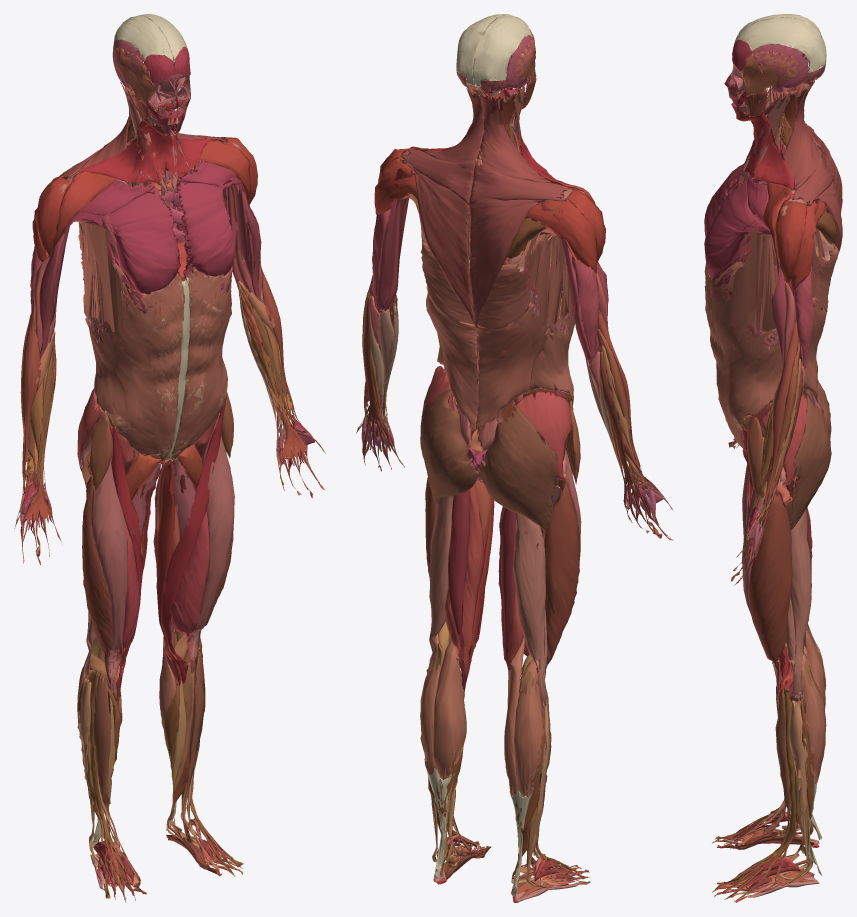
File: muscles.glb
3 renders of one model, left to right at view 1: azimuth 30°, elevation 25°; view 2: azimuth 150°, elevation 25°; view 3: azimuth 270°, elevation 25°, orthographic. The views are drawn at different scales.
Visible parts, largest first — view 1: external-oblique, pectoralis-major, rectus-femoris, deltoid, sartorius, platysma, vastus-medialis, biceps-brachii, tibialis-anterior, vastus-lateralis, latissimus-dorsi, gracilis (+29 smaller); view 2: trapezius, latissimus-dorsi, gluteus-maximus, gastrocnemius, biceps-femoris, deltoid, vastus-lateralis, triceps-brachii, semitendinosus, semimembranosus, epicranial-aponeurosis, gluteus-medius (+21 smaller); view 3: external-oblique, vastus-lateralis, pectoralis-major, latissimus-dorsi, trapezius, deltoid, gluteus-maximus, biceps-femoris, epicranial-aponeurosis, gastrocnemius, platysma, extensor-digitorum-longus (+31 smaller).
Part boxes in pixels (<box>): external-oblique: <box>86,224,232,456</box>; pectoralis-major: <box>61,160,245,313</box>; rectus-femoris: <box>91,419,234,692</box>; deltoid: <box>32,137,257,262</box>; sartorius: <box>109,397,226,699</box>; platysma: <box>79,108,212,184</box>; vastus-medialis: <box>112,511,209,683</box>; biceps-brachii: <box>39,183,261,358</box>; tibialis-anterior: <box>93,650,205,858</box>; vastus-lateralis: <box>82,476,233,685</box>; latissimus-dorsi: <box>78,185,234,331</box>; gracilis: <box>119,462,180,699</box>; trapezius: <box>401,90,570,328</box>; latissimus-dorsi: <box>403,196,572,426</box>; gluteus-maximus: <box>420,389,557,531</box>; gastrocnemius: <box>420,633,544,799</box>; biceps-femoris: <box>426,496,547,705</box>; deltoid: <box>374,146,605,274</box>; vastus-lateralis: <box>425,477,580,679</box>; triceps-brachii: <box>371,196,600,363</box>; semitendinosus: <box>448,490,515,698</box>; semimembranosus: <box>445,484,523,685</box>; epicranial-aponeurosis: <box>456,14,533,87</box>; gluteus-medius: <box>421,366,571,480</box>; external-oblique: <box>704,182,782,449</box>; vastus-lateralis: <box>749,494,792,694</box>; pectoralis-major: <box>704,164,770,298</box>; latissimus-dorsi: <box>747,228,838,405</box>; trapezius: <box>783,80,842,271</box>; deltoid: <box>763,123,827,292</box>; gluteus-maximus: <box>786,379,831,529</box>; biceps-femoris: <box>786,507,812,700</box>; epicranial-aponeurosis: <box>735,14,826,72</box>; gastrocnemius: <box>799,623,826,783</box>; platysma: <box>736,106,795,190</box>; extensor-digitorum-longus: <box>712,687,796,900</box>.
Bounding box in the file's own units: 2.55 × 6.59 × 0.9696.
